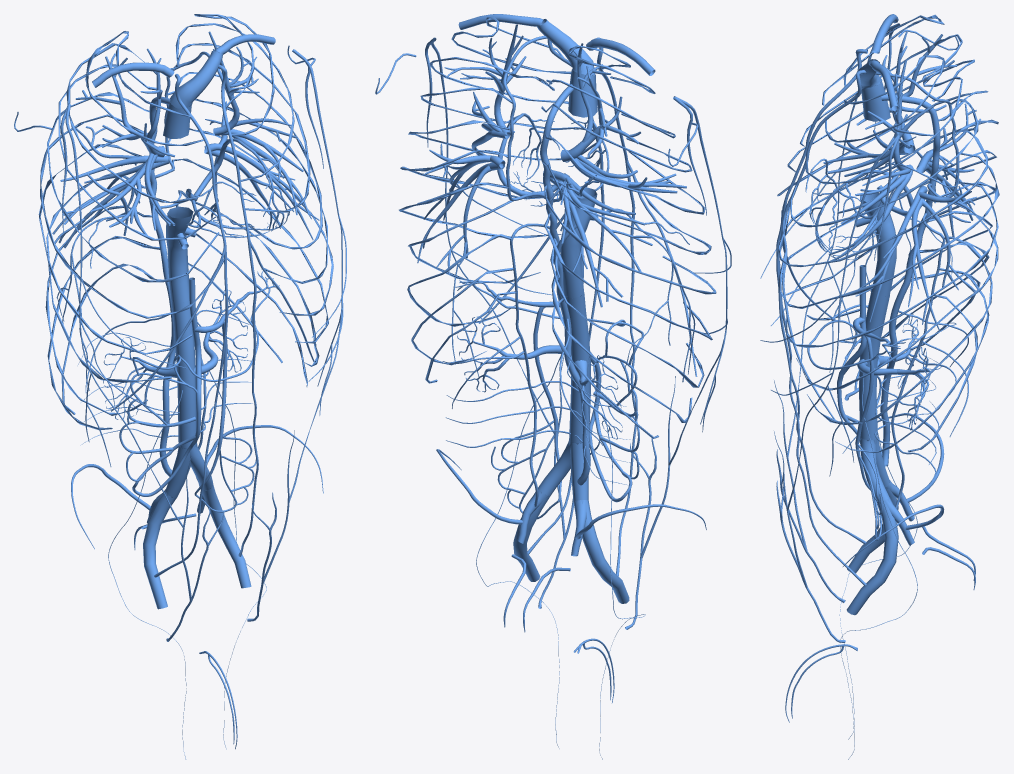
Rendered from veins.glb.
3 views of the same model, side by side, from view 1: azimuth 30°, elevation 25°; view 2: azimuth 150°, elevation 25°; view 3: azimuth 270°, elevation 25° (orthographic). The views are drawn at different scales.
Parts seen in each view (by area): view 1: Right superior intercostal vein.001, Left superior intercostal vein.001, Inferior vena cava (abdominal part).001, Inferior vena cava (thoracic part).001, Lateral thoracic vein.r.001, External iliac vein.r.001, Lateral thoracic vein.l.001, Superior mesenteric vein.001, External iliac vein.l.001, Left brachiocephalic vein.001, Right ascending lumbar vein.001, Azygos vein.001 (+25 smaller); view 2: Right superior intercostal vein.001, Left superior intercostal vein.001, Inferior vena cava (abdominal part).001, Inferior vena cava (thoracic part).001, Azygos vein.001, Right ascending lumbar vein.001, External iliac vein.r.001, Apicoposterior vein of left lung.001, Lateral thoracic vein.l.001, Superior basal vein of right lung.001, Superficial epigastric vein.r.001, Lateral thoracic vein.r.001 (+26 smaller); view 3: Left superior intercostal vein.001, Right superior intercostal vein.001, Inferior vena cava (abdominal part).001, External iliac vein.l.001, Azygos vein.001, Inferior vena cava (thoracic part).001, Lateral thoracic vein.l.001, Superior vein of left lung.001, Right ascending lumbar vein.001, Apicoposterior vein of left lung.001, Lateral thoracic vein.r.001, Superficial epigastric vein.r.001 (+33 smaller).
Boxes of the visible parts, x1=… form: Right superior intercostal vein.001: x1=38, y1=31, x2=224, y2=429; Left superior intercostal vein.001: x1=167, y1=14, x2=333, y2=386; Inferior vena cava (abdominal part).001: x1=171, y1=300, x2=196, y2=448; Inferior vena cava (thoracic part).001: x1=166, y1=206, x2=193, y2=302; Lateral thoracic vein.r.001: x1=65, y1=104, x2=186, y2=468; External iliac vein.r.001: x1=143, y1=489, x2=176, y2=609; Lateral thoracic vein.l.001: x1=292, y1=49, x2=346, y2=429; Superior mesenteric vein.001: x1=132, y1=329, x2=201, y2=496; External iliac vein.l.001: x1=200, y1=485, x2=251, y2=588; Left brachiocephalic vein.001: x1=170, y1=51, x2=223, y2=108; Right ascending lumbar vein.001: x1=159, y1=315, x2=206, y2=476; Azygos vein.001: x1=149, y1=96, x2=172, y2=315; Right superior intercostal vein.001: x1=541, y1=45, x2=716, y2=438; Left superior intercostal vein.001: x1=399, y1=16, x2=596, y2=383; Inferior vena cava (abdominal part).001: x1=564, y1=293, x2=590, y2=443; Inferior vena cava (thoracic part).001: x1=560, y1=187, x2=597, y2=297; Azygos vein.001: x1=540, y1=84, x2=573, y2=321; Right ascending lumbar vein.001: x1=531, y1=319, x2=590, y2=485; External iliac vein.r.001: x1=573, y1=500, x2=629, y2=603; Apicoposterior vein of left lung.001: x1=444, y1=24, x2=526, y2=125; Lateral thoracic vein.l.001: x1=431, y1=40, x2=559, y2=376; Superior basal vein of right lung.001: x1=554, y1=171, x2=652, y2=271; Superficial epigastric vein.r.001: x1=625, y1=376, x2=691, y2=629; Lateral thoracic vein.r.001: x1=673, y1=96, x2=731, y2=432; Left superior intercostal vein.001: x1=778, y1=55, x2=999, y2=452; Right superior intercostal vein.001: x1=777, y1=14, x2=998, y2=350; Inferior vena cava (abdominal part).001: x1=859, y1=290, x2=889, y2=439; External iliac vein.l.001: x1=846, y1=498, x2=898, y2=615; Azygos vein.001: x1=881, y1=94, x2=940, y2=314; Inferior vena cava (thoracic part).001: x1=860, y1=192, x2=896, y2=296; Lateral thoracic vein.l.001: x1=760, y1=134, x2=898, y2=476; Superior vein of left lung.001: x1=855, y1=186, x2=976, y2=322; Right ascending lumbar vein.001: x1=874, y1=312, x2=897, y2=466; Apicoposterior vein of left lung.001: x1=865, y1=60, x2=937, y2=170; Lateral thoracic vein.r.001: x1=760, y1=23, x2=899, y2=382; Superficial epigastric vein.r.001: x1=774, y1=380, x2=845, y2=602.
Bounding box in the file's own units: 0.2923 × 0.7007 × 0.2128.
